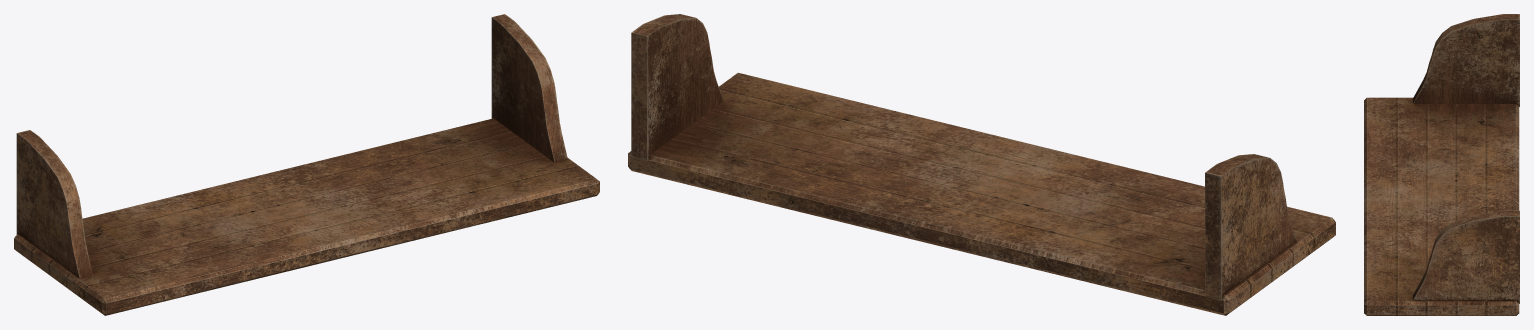
File: old_kitchen_shelf.glb
The picture shows the model from 3 angles, left to right: view 1: azimuth 30°, elevation 25°; view 2: azimuth 150°, elevation 25°; view 3: azimuth 270°, elevation 25°; orthographic projection. The views are drawn at different scales.
Parts seen in each view (by area): view 1: shelf_low; view 2: shelf_low; view 3: shelf_low.
Part boxes in pixels (x1,y1,x2,y2): shelf_low: (14, 14, 599, 315); shelf_low: (628, 14, 1335, 315); shelf_low: (1364, 14, 1519, 315).
Size of the model in its own units: 628 by 141 by 201.
Materials: 1 (1 with a texture image).
